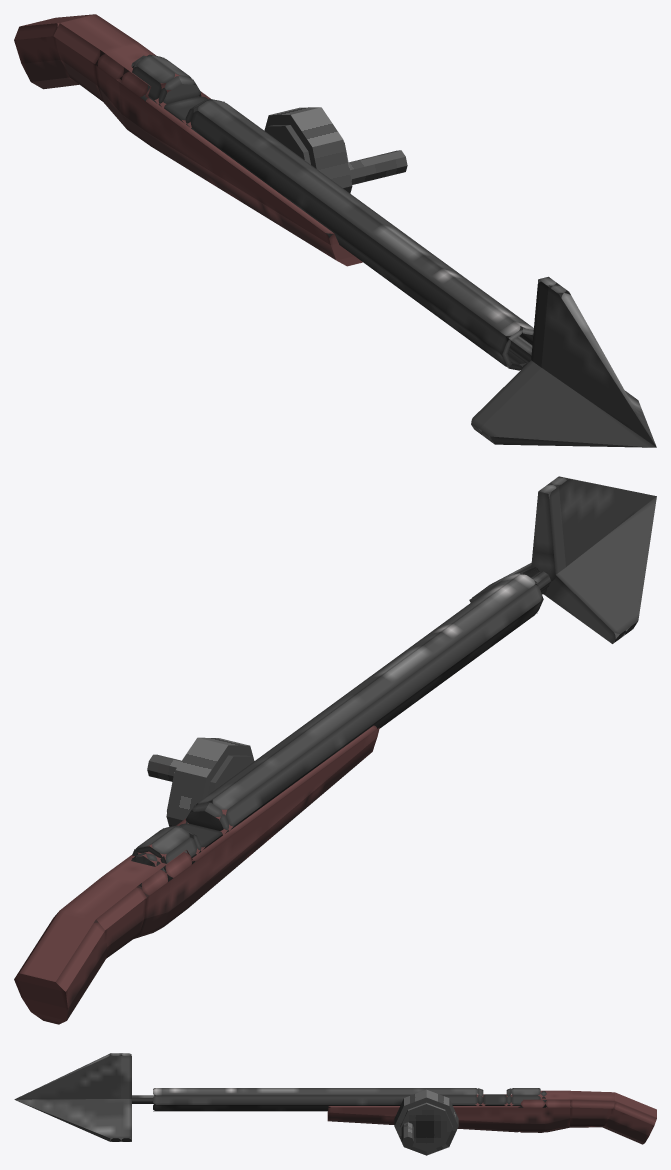
Rendered from Harpoon Gun.fbx.
3 views of the same model, one above another, from view 1: azimuth 30°, elevation 25°; view 2: azimuth 150°, elevation 25°; view 3: azimuth 270°, elevation 25° (orthographic). The views are drawn at different scales.
Parts seen in each view (by area): view 1: Barrel, Body, HarpoonFront, WindupBody, WindupGrip; view 2: Body, Barrel, HarpoonFront, WindupBody; view 3: Body, Barrel, HarpoonFront, WindupBody, WindupGrip, Harpoon Body.
Part boxes in pixels (box(x1,y1,x2,y2)): Barrel: box(131, 54, 533, 370); Body: box(14, 14, 362, 266); HarpoonFront: box(471, 276, 656, 447); WindupBody: box(264, 107, 352, 193); WindupGrip: box(348, 150, 407, 184); Body: box(14, 725, 379, 1024); Barrel: box(131, 572, 543, 886); HarpoonFront: box(469, 476, 656, 643); WindupBody: box(166, 737, 254, 826); Body: box(327, 1090, 656, 1144); Barrel: box(153, 1088, 546, 1111); HarpoonFront: box(14, 1053, 131, 1141); WindupBody: box(394, 1089, 458, 1155); WindupGrip: box(401, 1122, 413, 1147); Harpoon Body: box(132, 1095, 154, 1103).
Size of the model in its own units: 120 by 97.92 by 648.
